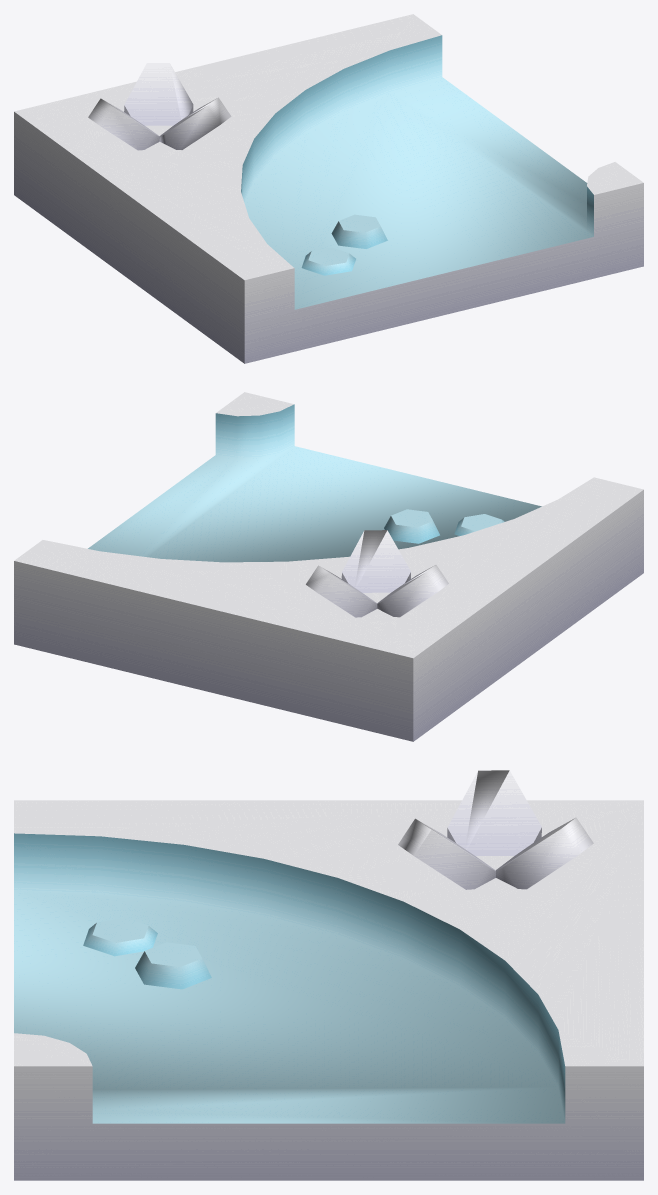
File: snow-tile-corner-round.glb
The picture shows the model from 3 angles, top to bottom: view 1: azimuth 30°, elevation 25°; view 2: azimuth 150°, elevation 25°; view 3: azimuth 270°, elevation 25°; orthographic projection. The views are drawn at different scales.
Parts seen in each view (by area): view 1: snow-tile-corner-round; view 2: snow-tile-corner-round; view 3: snow-tile-corner-round.
Boxes of the visible parts, x1,y1,x2,y2 form: snow-tile-corner-round: [14, 14, 643, 363]; snow-tile-corner-round: [14, 392, 643, 741]; snow-tile-corner-round: [14, 770, 643, 1180].
Size of the model in its own units: 1 by 0.296 by 1.
Materials: 1 (1 with a texture image).
